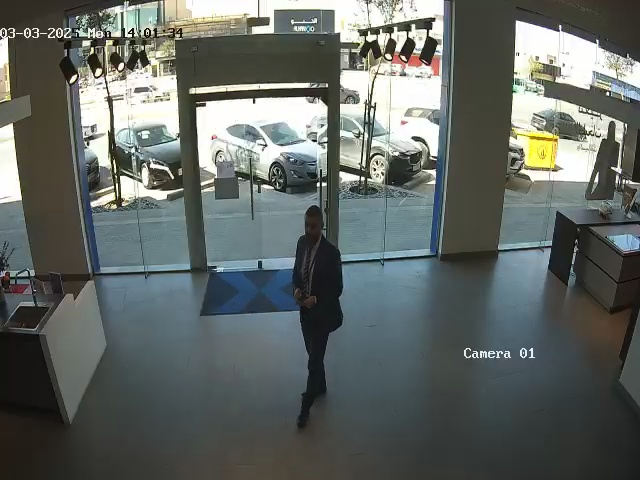employee: (291, 205, 344, 428)
